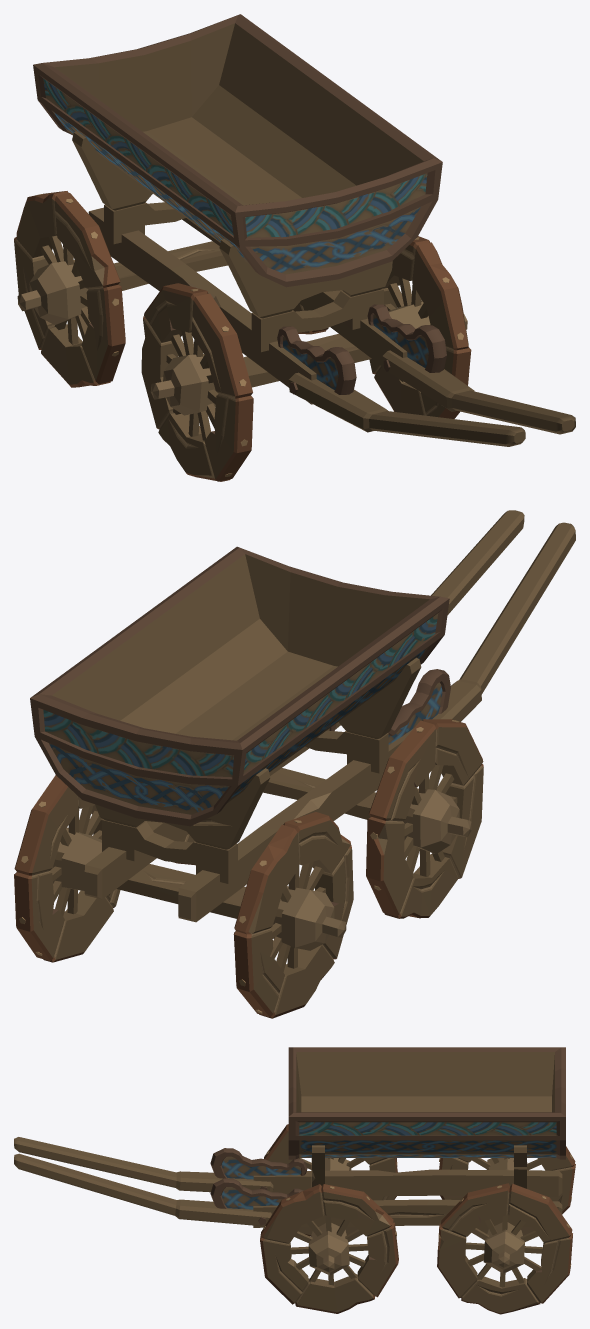
Rendered from SM_Veh_Wagon_01.fbx.
3 renders of one model, top to bottom at view 1: azimuth 30°, elevation 25°; view 2: azimuth 150°, elevation 25°; view 3: azimuth 270°, elevation 25°, orthographic. The views are drawn at different scales.
Parts seen in each view (by area): view 1: SM_Veh_Wagon_01; view 2: SM_Veh_Wagon_01; view 3: SM_Veh_Wagon_01.
Boxes of the visible parts, x1=… form: SM_Veh_Wagon_01: x1=14, y1=14, x2=575, y2=481; SM_Veh_Wagon_01: x1=14, y1=510, x2=575, y2=1018; SM_Veh_Wagon_01: x1=14, y1=1047, x2=575, y2=1314.
Size of the model in its own units: 175 by 152 by 392.
